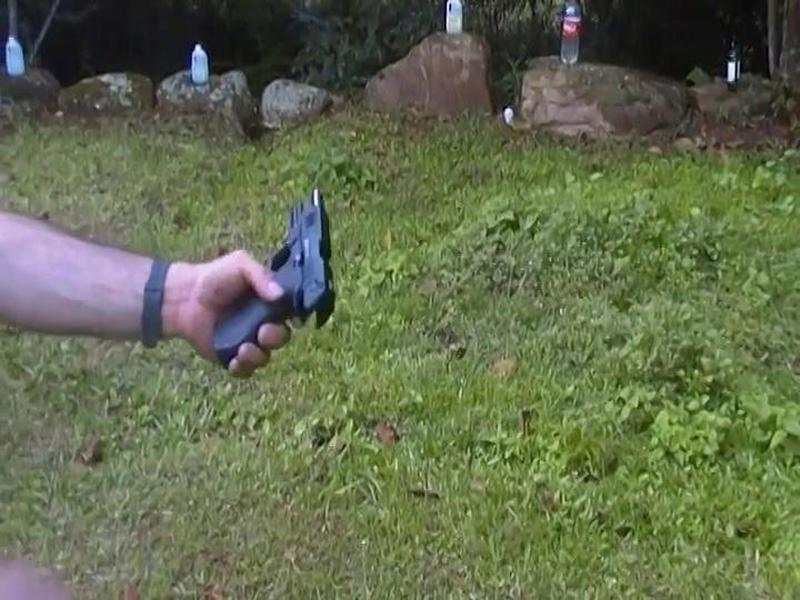Pistola: (185, 186, 361, 388)
